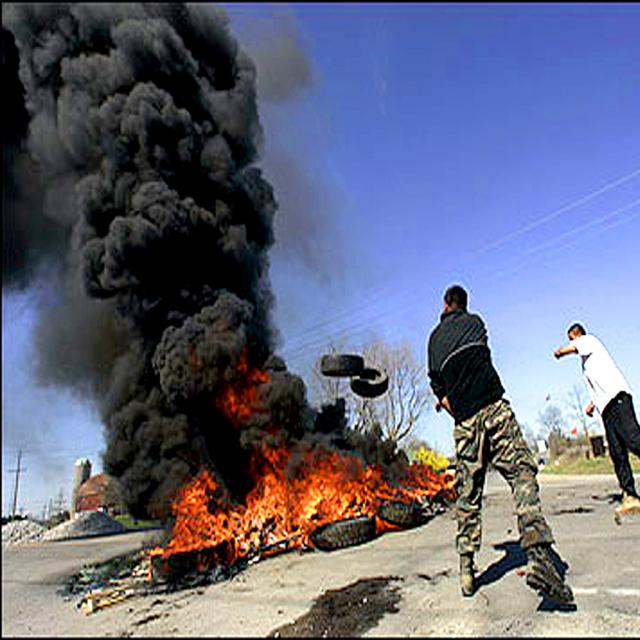fire: (230, 428, 390, 556), (150, 467, 228, 553), (213, 345, 272, 423), (395, 463, 453, 501)
